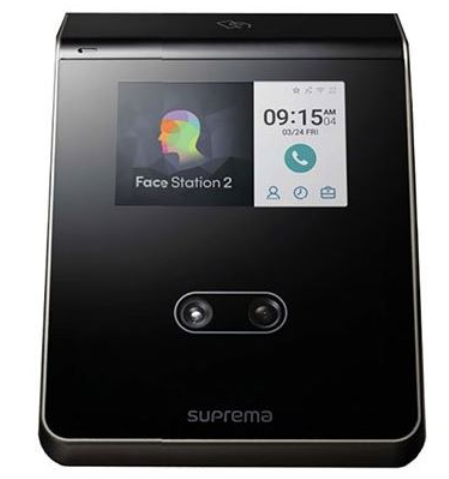Suprema: (34, 3, 436, 474)
